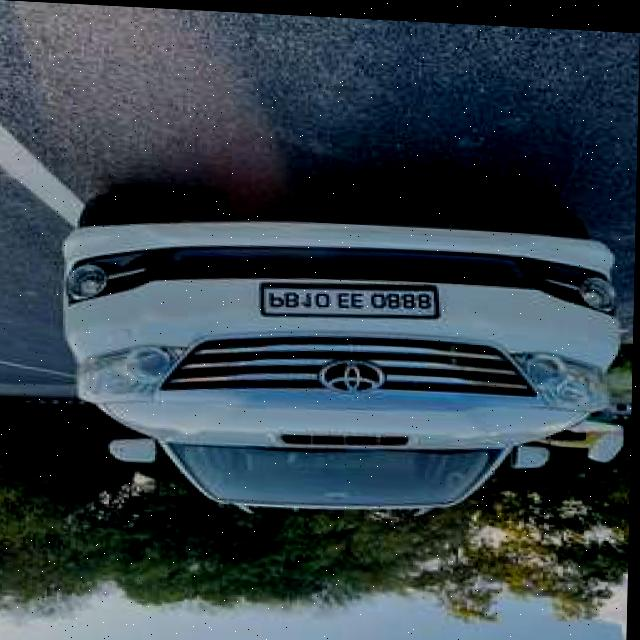plate: (259, 270, 445, 324)
